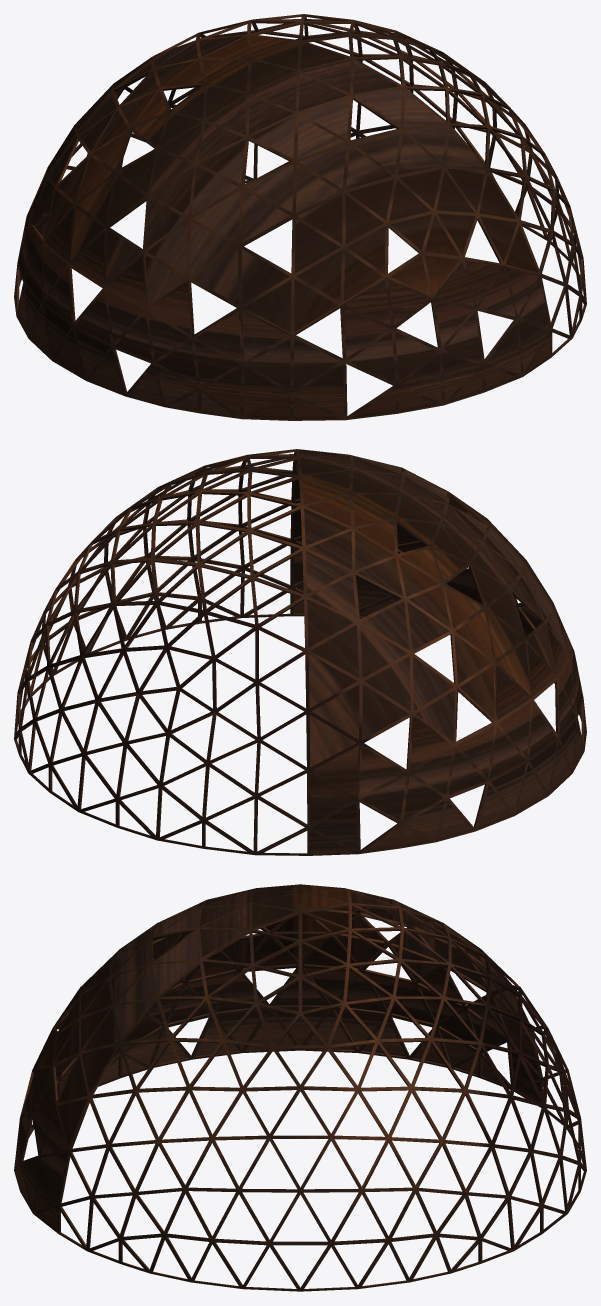
The model's file is inner.fbx.
3 renders of one model, top to bottom at view 1: azimuth 30°, elevation 25°; view 2: azimuth 150°, elevation 25°; view 3: azimuth 270°, elevation 25°, orthographic.
Visible parts, largest first — view 1: Sphere; view 2: Sphere; view 3: Sphere.
Boxes of the visible parts, box(x1,y1,x2,y2) form: Sphere: box(14, 14, 586, 420); Sphere: box(14, 449, 586, 855); Sphere: box(14, 884, 586, 1291).
Bounding box in the file's own units: 1000 × 500 × 1000.
2 materials, 2 textured.
